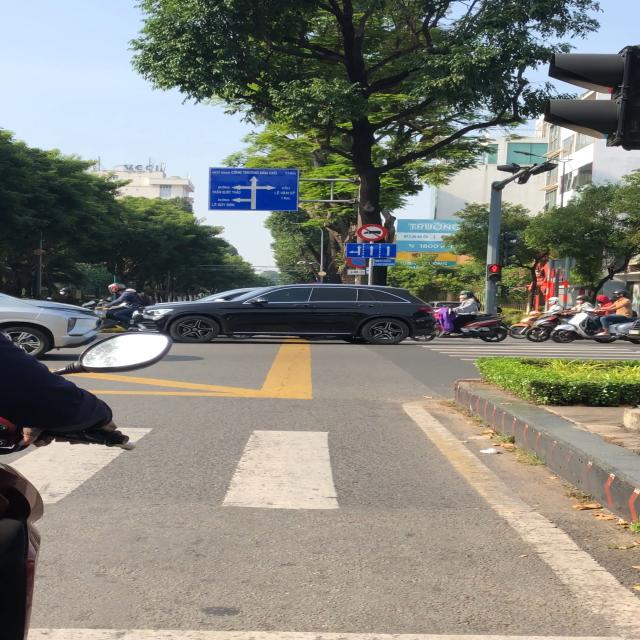Bien bao cam xe so-mi ro-mooc: (356, 222, 390, 243)
